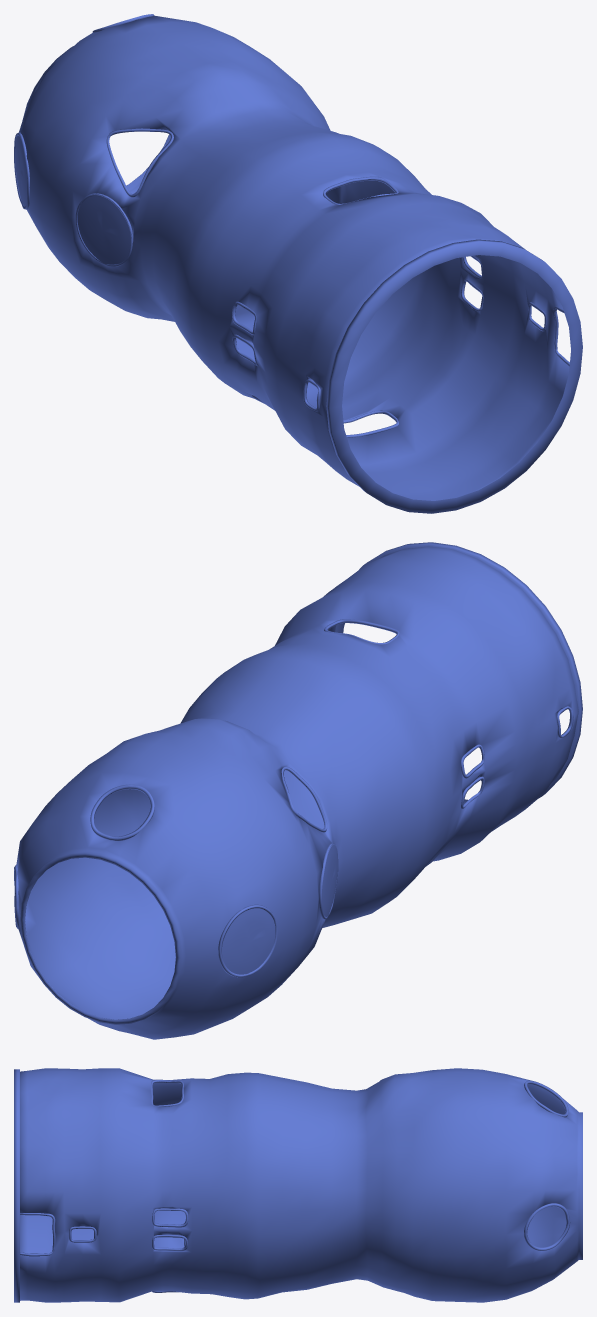
File: Skin2Sides.fbx
The picture shows the model from 3 angles, top to bottom: view 1: azimuth 30°, elevation 25°; view 2: azimuth 150°, elevation 25°; view 3: azimuth 270°, elevation 25°; orthographic projection. The views are drawn at different scales.
Visible parts, largest first — view 1: Skin.002; view 2: Skin.002; view 3: Skin.002.
Boxes of the visible parts, left/top/right/bottom form: Skin.002: left=14, top=14, right=582, bottom=513; Skin.002: left=14, top=542, right=582, bottom=1039; Skin.002: left=14, top=1068, right=582, bottom=1302.
Bounding box in the file's own units: 259 × 257 × 622.
